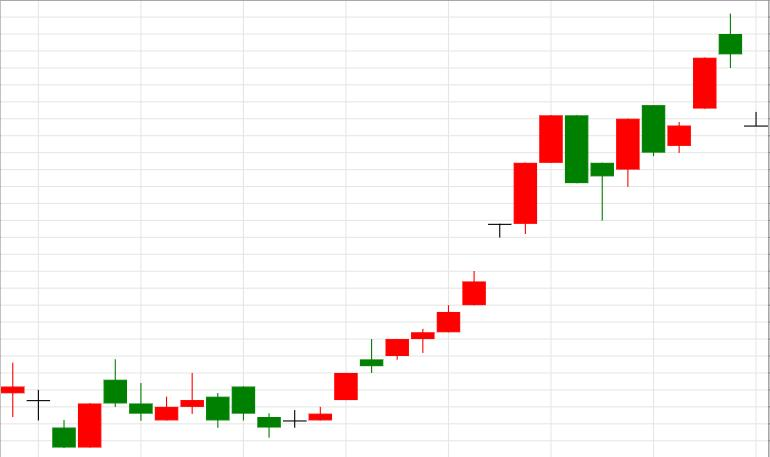bearish_engulfing_fall: (308, 116, 589, 421)
